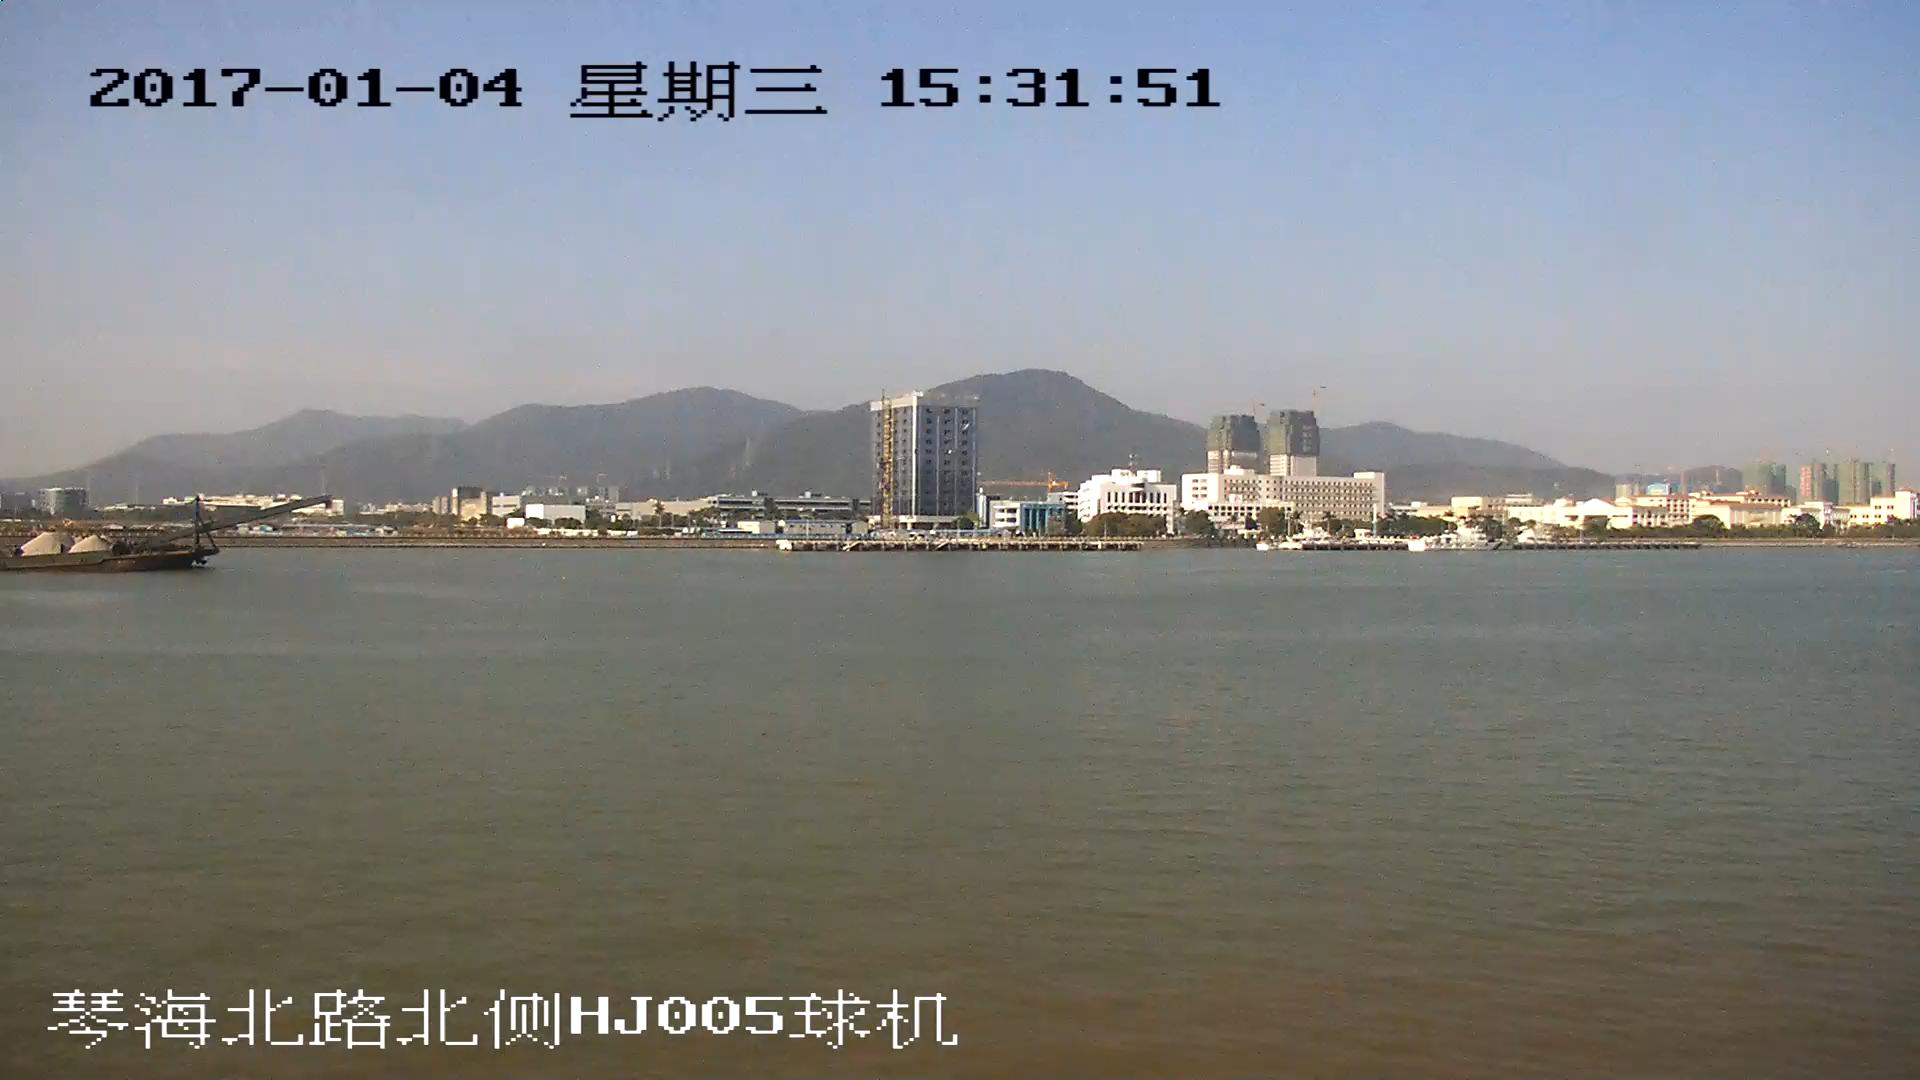ore carrier: (1, 495, 329, 567)
